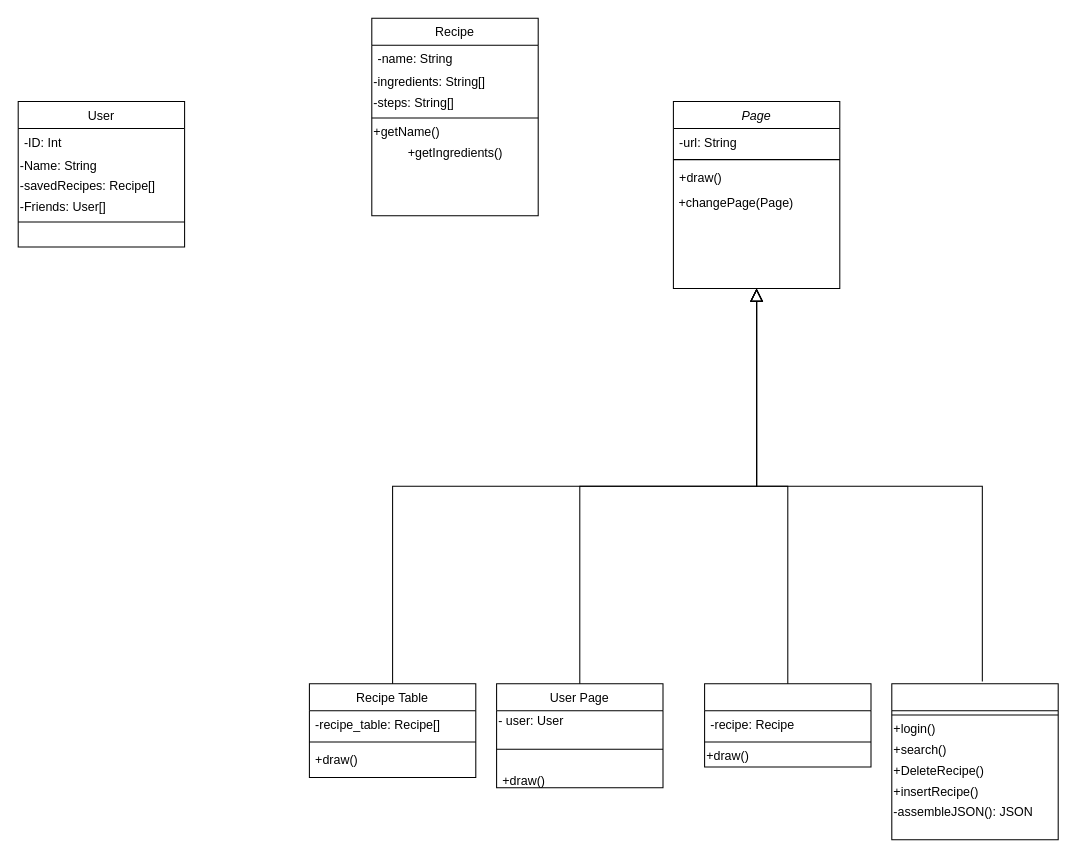
This 1076x858 diagram has some shape labels left out. The box of each missing label's shape, as (x1, y1, x2, y2) in pixels:
Home Page: (891, 683, 1058, 840)
Recipe Page: (704, 683, 871, 767)
